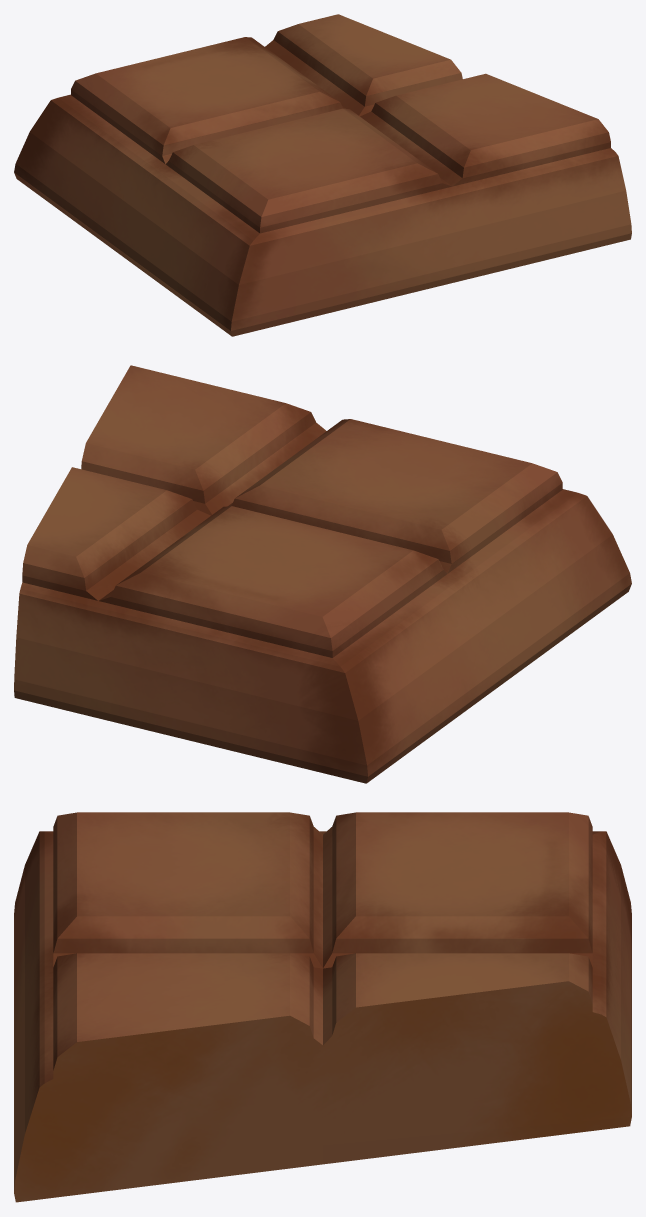
Rendered from Ingrediente_ChocolateMitad_L.fbx.
3 views of the same model, one above another, from view 1: azimuth 30°, elevation 25°; view 2: azimuth 150°, elevation 25°; view 3: azimuth 270°, elevation 25° (orthographic). The views are drawn at different scales.
Visible parts, largest first — view 1: m_ChocolateMitad_01; view 2: m_ChocolateMitad_01; view 3: m_ChocolateMitad_01.
Part boxes in pixels (x1,y1,x2,y2): m_ChocolateMitad_01: (14,14,631,336); m_ChocolateMitad_01: (14,365,631,783); m_ChocolateMitad_01: (14,812,631,1202).
Bounding box in the file's own units: 28.8 × 7.36 × 26.97.
